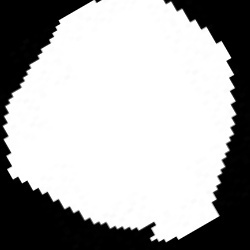spot: (4, 1, 238, 242)
